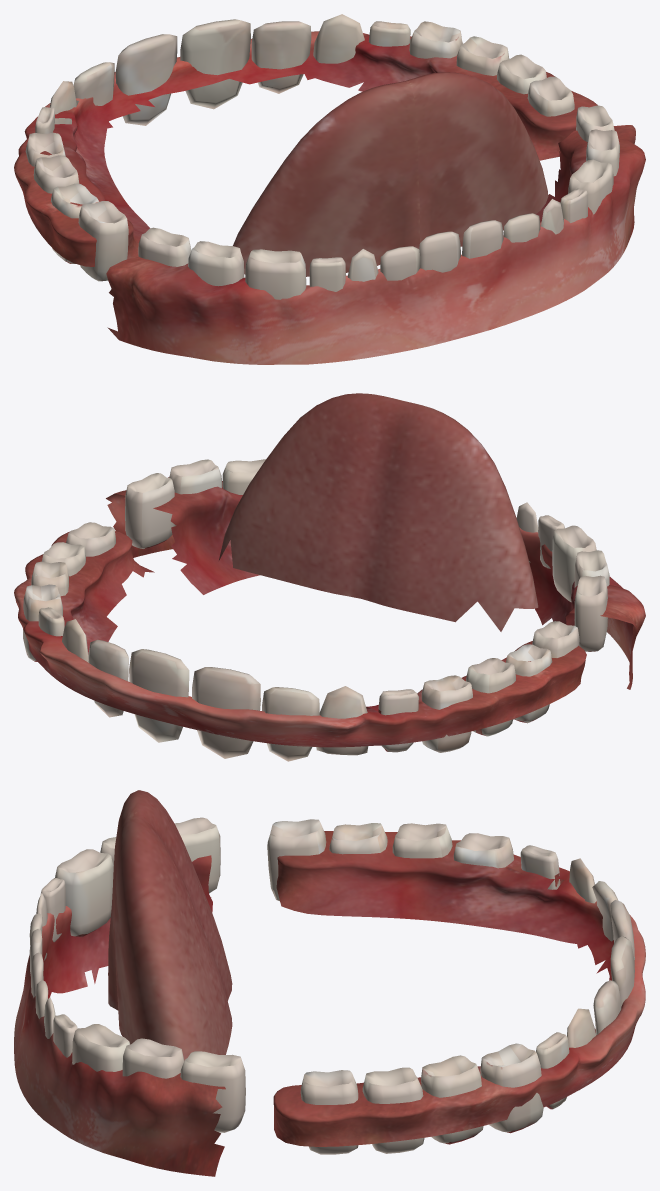
Rendered from Dientes1 1.fbx.
The picture shows the model from 3 angles, top to bottom: view 1: azimuth 30°, elevation 25°; view 2: azimuth 150°, elevation 25°; view 3: azimuth 270°, elevation 25°; orthographic projection. The views are drawn at different scales.
Visible parts, largest first — view 1: Object_3.001, Object_8.001, Object_5.002, Incisivo Central DS, Incisivo Central IS, Incisivo Lateral DS, Muela del Juicio1.001, Primer Molar II, Segundo Molar II, Canino SD, Segundo Premolar SD, Muela del Juicio II (+20 smaller); view 2: Object_8.001, Object_5.002, Object_3.001, Incisivo Central IS, Incisivo Central DS, Muela del Juicio ID, Muela del Juicio II, Incisivo laterl IS, Segundo premolar, Primer Molar II, Primer molar, Canino SI (+14 smaller); view 3: Object_5.002, Object_8.001, Object_3.001, Primer Molar II, Muela del Juicio ID, Segundo Premolar SD, Primer Molar SD, Segundo molar SD, Muela del Juicio1.001, Muela del juicio SD, Primer Mola ID, Segundo Molar ID (+14 smaller).
Boxes of the visible parts, box(x1,y1,x2,y2) form: Object_3.001: box(106, 125, 645, 364); Object_8.001: box(233, 72, 548, 276); Object_5.002: box(14, 31, 597, 266); Incisivo Central DS: box(180, 19, 250, 109); Incisivo Central IS: box(115, 34, 177, 125); Incisivo Lateral DS: box(251, 21, 311, 93); Muela del Juicio1.001: box(78, 201, 128, 281); Primer Molar II: box(245, 249, 306, 299); Segundo Molar II: box(188, 241, 244, 286); Canino SD: box(313, 14, 364, 63); Segundo Premolar SD: box(409, 21, 462, 58); Muela del Juicio II: box(138, 227, 191, 266); Object_8.001: box(219, 393, 538, 631); Object_5.002: box(14, 531, 586, 747); Object_3.001: box(106, 477, 645, 689); Incisivo Central IS: box(192, 667, 260, 758); Incisivo Central DS: box(129, 649, 189, 742); Muela del Juicio ID: box(125, 473, 174, 549); Muela del Juicio II: box(574, 575, 607, 651); Incisivo laterl IS: box(262, 687, 319, 761); Segundo premolar: box(421, 675, 472, 752); Primer Molar II: box(552, 525, 596, 602); Primer molar: box(466, 658, 515, 736); Canino SI: box(316, 686, 368, 755); Object_5.002: box(273, 831, 645, 1146); Object_8.001: box(108, 790, 232, 1060); Object_3.001: box(14, 855, 225, 1176); Primer Molar II: box(55, 849, 113, 937); Muela del Juicio ID: box(180, 1051, 245, 1132); Segundo Premolar SD: box(480, 1043, 543, 1133); Primer Molar SD: box(421, 1055, 483, 1144); Segundo molar SD: box(362, 1067, 424, 1153); Muela del Juicio1.001: box(267, 819, 326, 901); Muela del juicio SD: box(300, 1070, 358, 1154); Primer Mola ID: box(72, 1024, 129, 1071); Segundo Molar ID: box(122, 1038, 184, 1078).
Bounding box in the file's own units: 294 × 113 × 269.
Materials: 3 (3 with a texture image).
